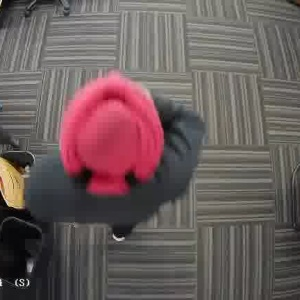person: (25, 72, 196, 227)
